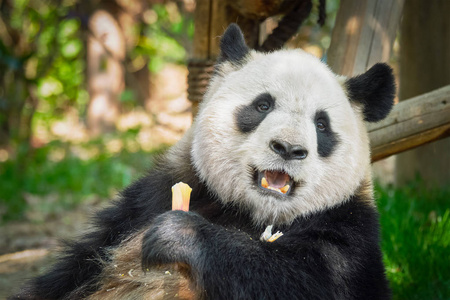panda: (53, 18, 410, 294)
